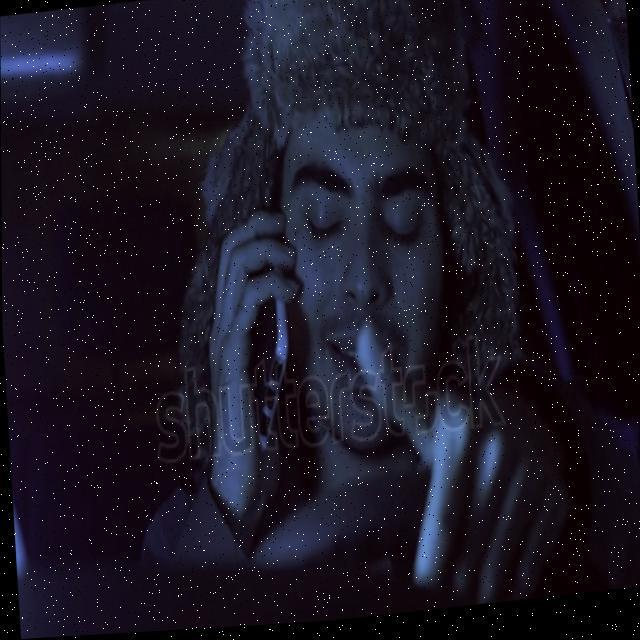PhoneCall: (233, 218, 296, 456)
